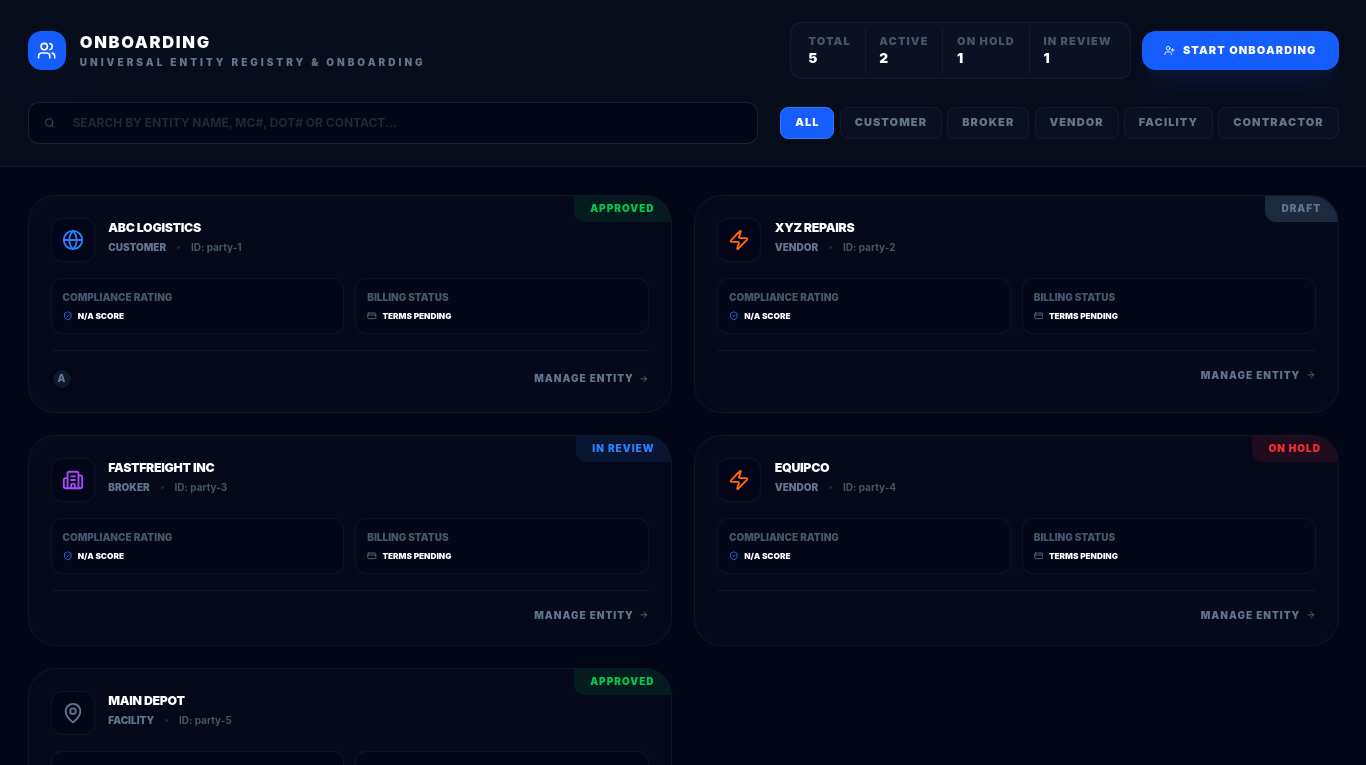
Test: NetworkPortal coverage — deeper interactions › filters parties by type when Broker filter is clicked
This screenshot has width=1366, height=765.
Expected: the heading "FastFreight Inc" is shown, [108, 460, 214, 475]
Step 1. Click the button "Broker" → {"x": 988, "y": 123}, box [947, 106, 1029, 139]
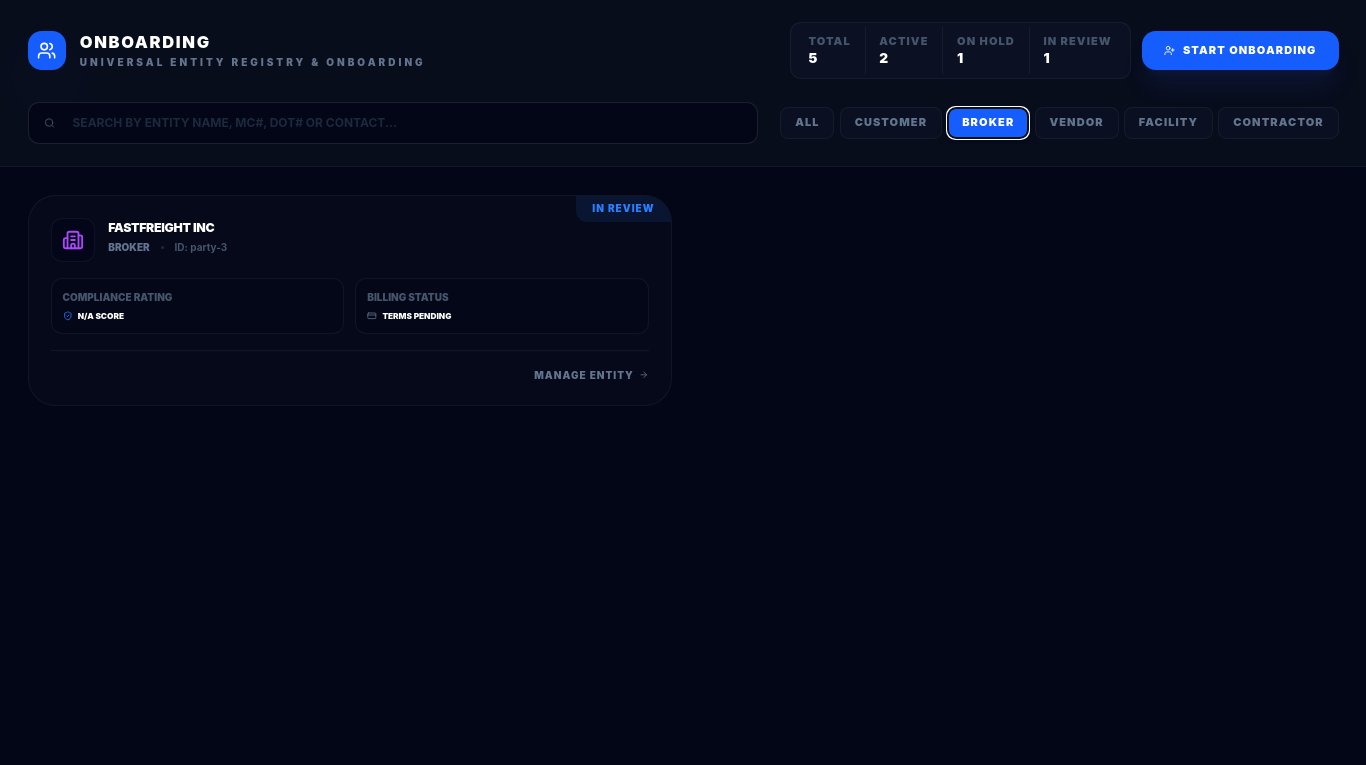
Expected: the heading "FastFreight Inc" is shown, [108, 220, 214, 235]
Expected: the heading "ABC Logistics" is gone
